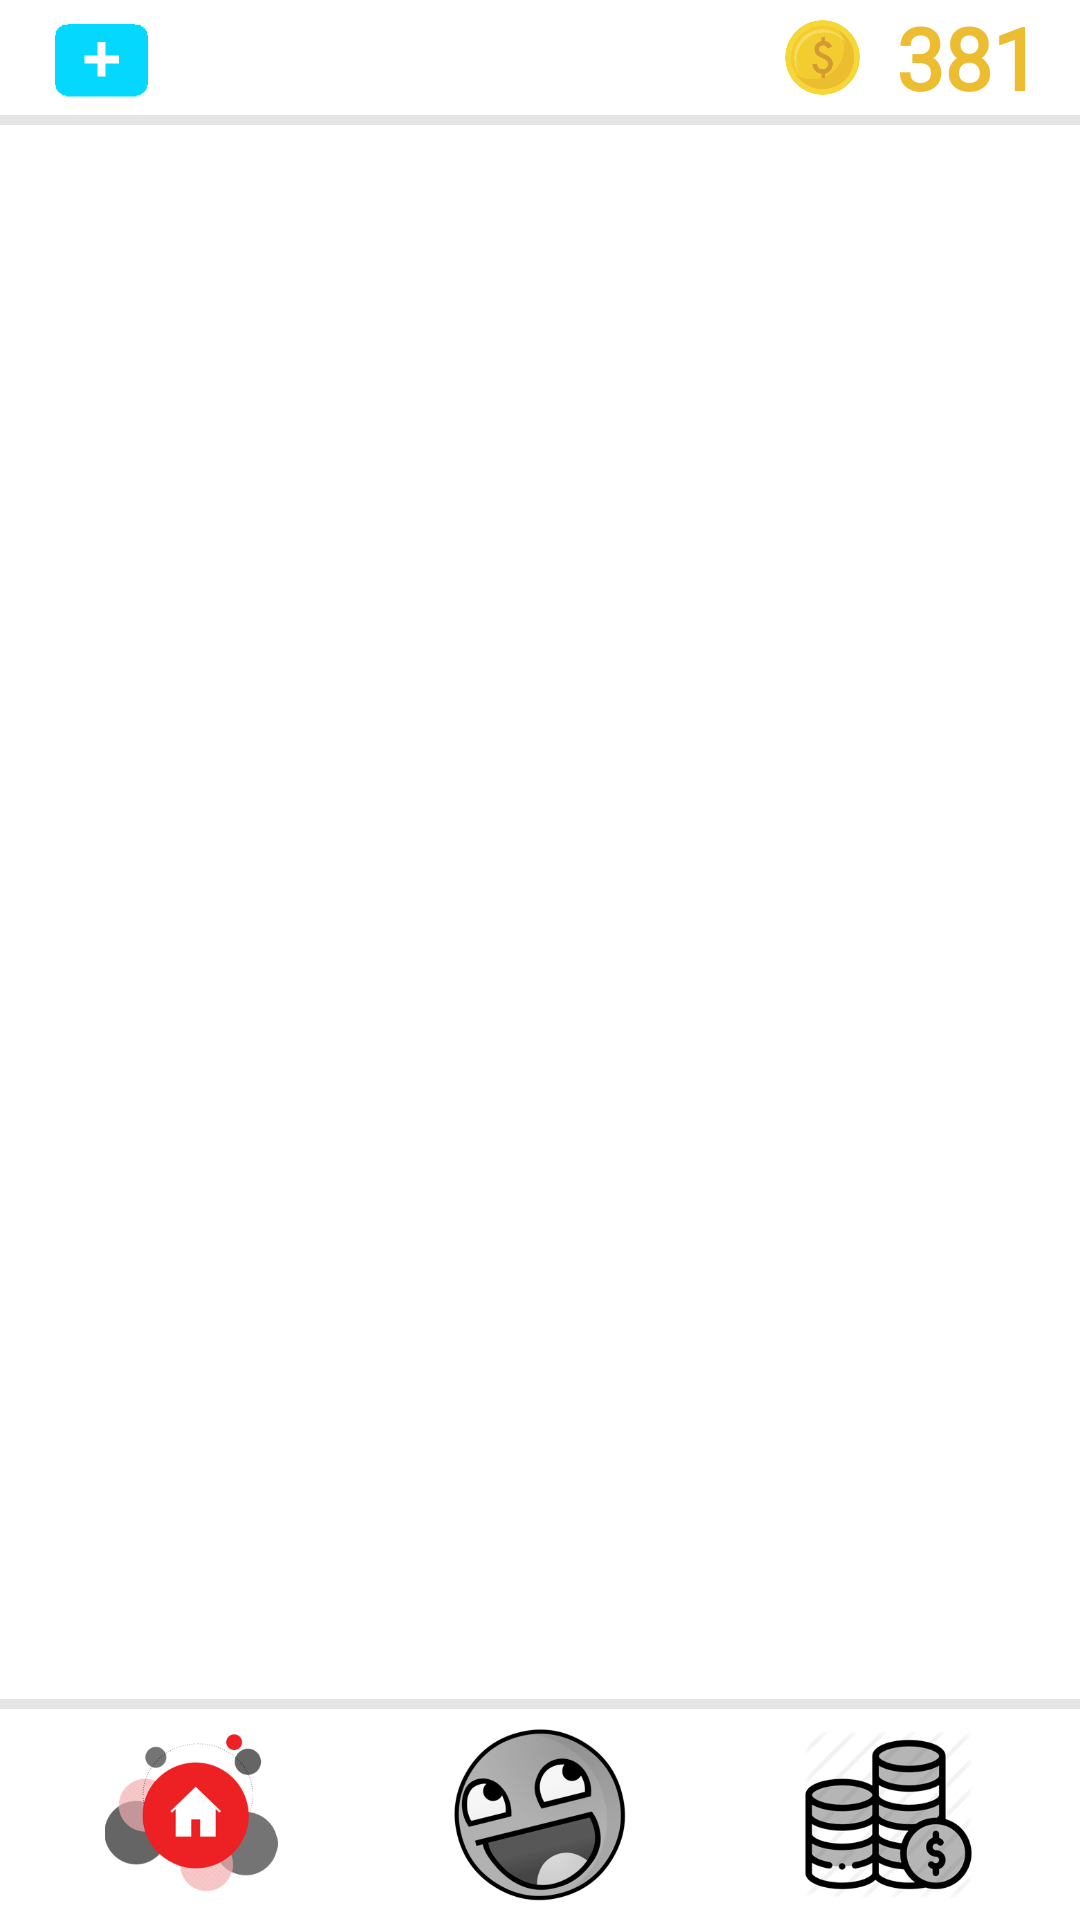

Icons on this 1080*1920 Android screen, each with its box as (x1, y1, x2, y2):
iniciocolor: (105, 1734, 278, 1891)
moneda: (785, 20, 860, 95)
perfil: (454, 1729, 626, 1901)
sumar: (55, 24, 148, 97)
